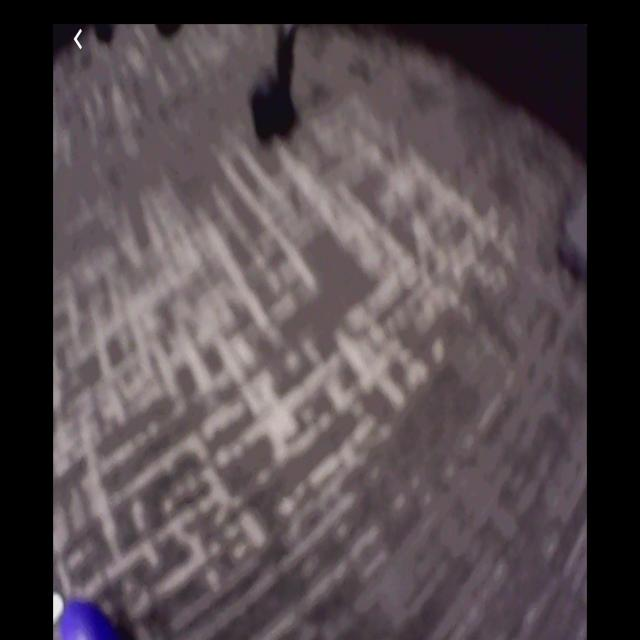ball: (55, 600, 121, 640)
